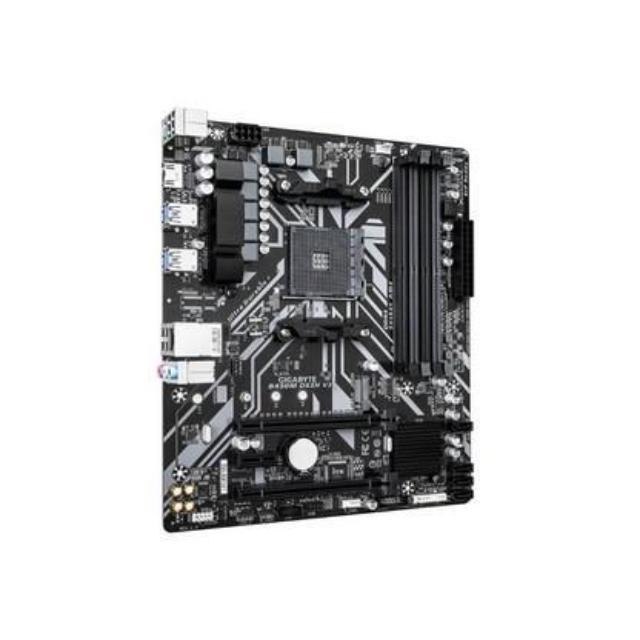Mainboard: (148, 100, 482, 542)
